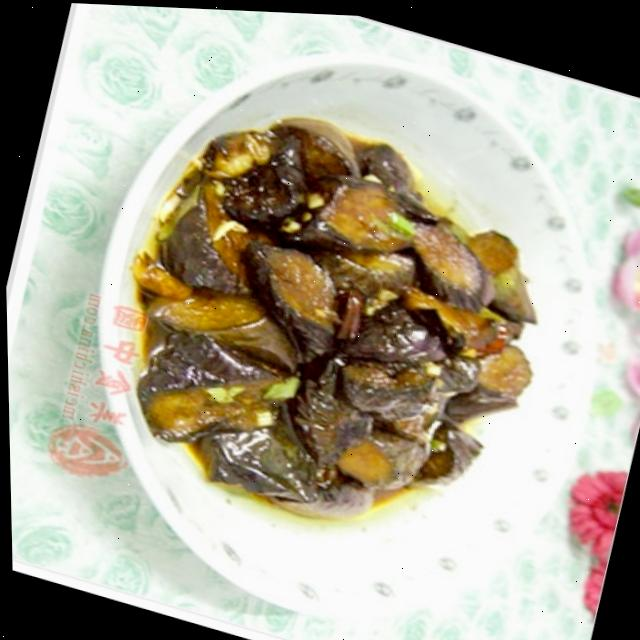鸡蛋料理: (29, 1, 640, 640)
